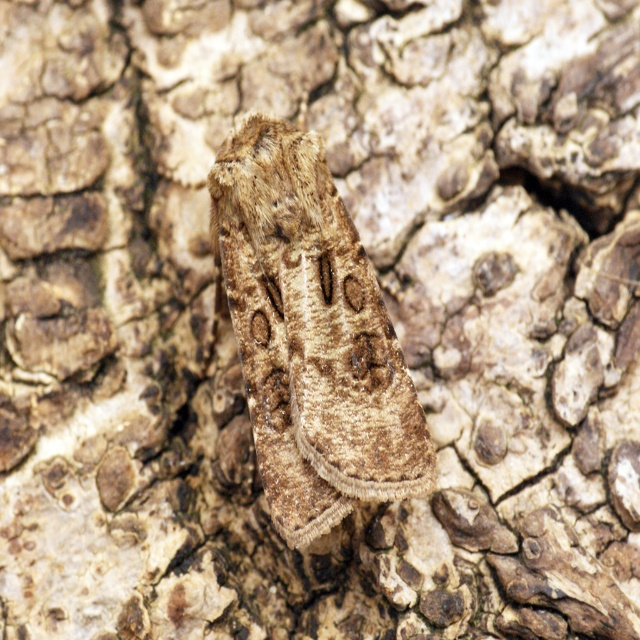Butterfly: (207, 114, 438, 550)
